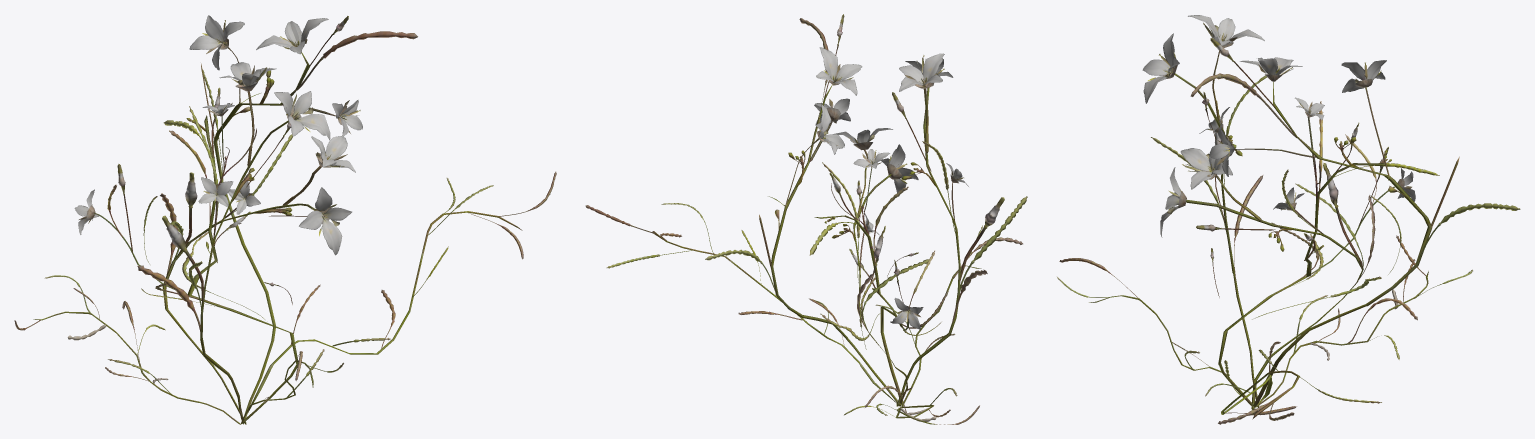
The model's file is flowers.glb.
The picture shows the model from 3 angles, left to right: view 1: azimuth 30°, elevation 25°; view 2: azimuth 150°, elevation 25°; view 3: azimuth 270°, elevation 25°; orthographic projection. The views are drawn at different scales.
Visible parts, largest first — view 1: flower_heliophila_small; view 2: flower_heliophila_small; view 3: flower_heliophila_small.
Part boxes in pixels (bbox=[...]): flower_heliophila_small: bbox=[14, 15, 556, 424]; flower_heliophila_small: bbox=[585, 14, 1027, 424]; flower_heliophila_small: bbox=[1057, 15, 1520, 424].
Bounding box in the file's own units: 0.3435 × 0.2697 × 0.2741.
Materials: 1 (1 with a texture image).
